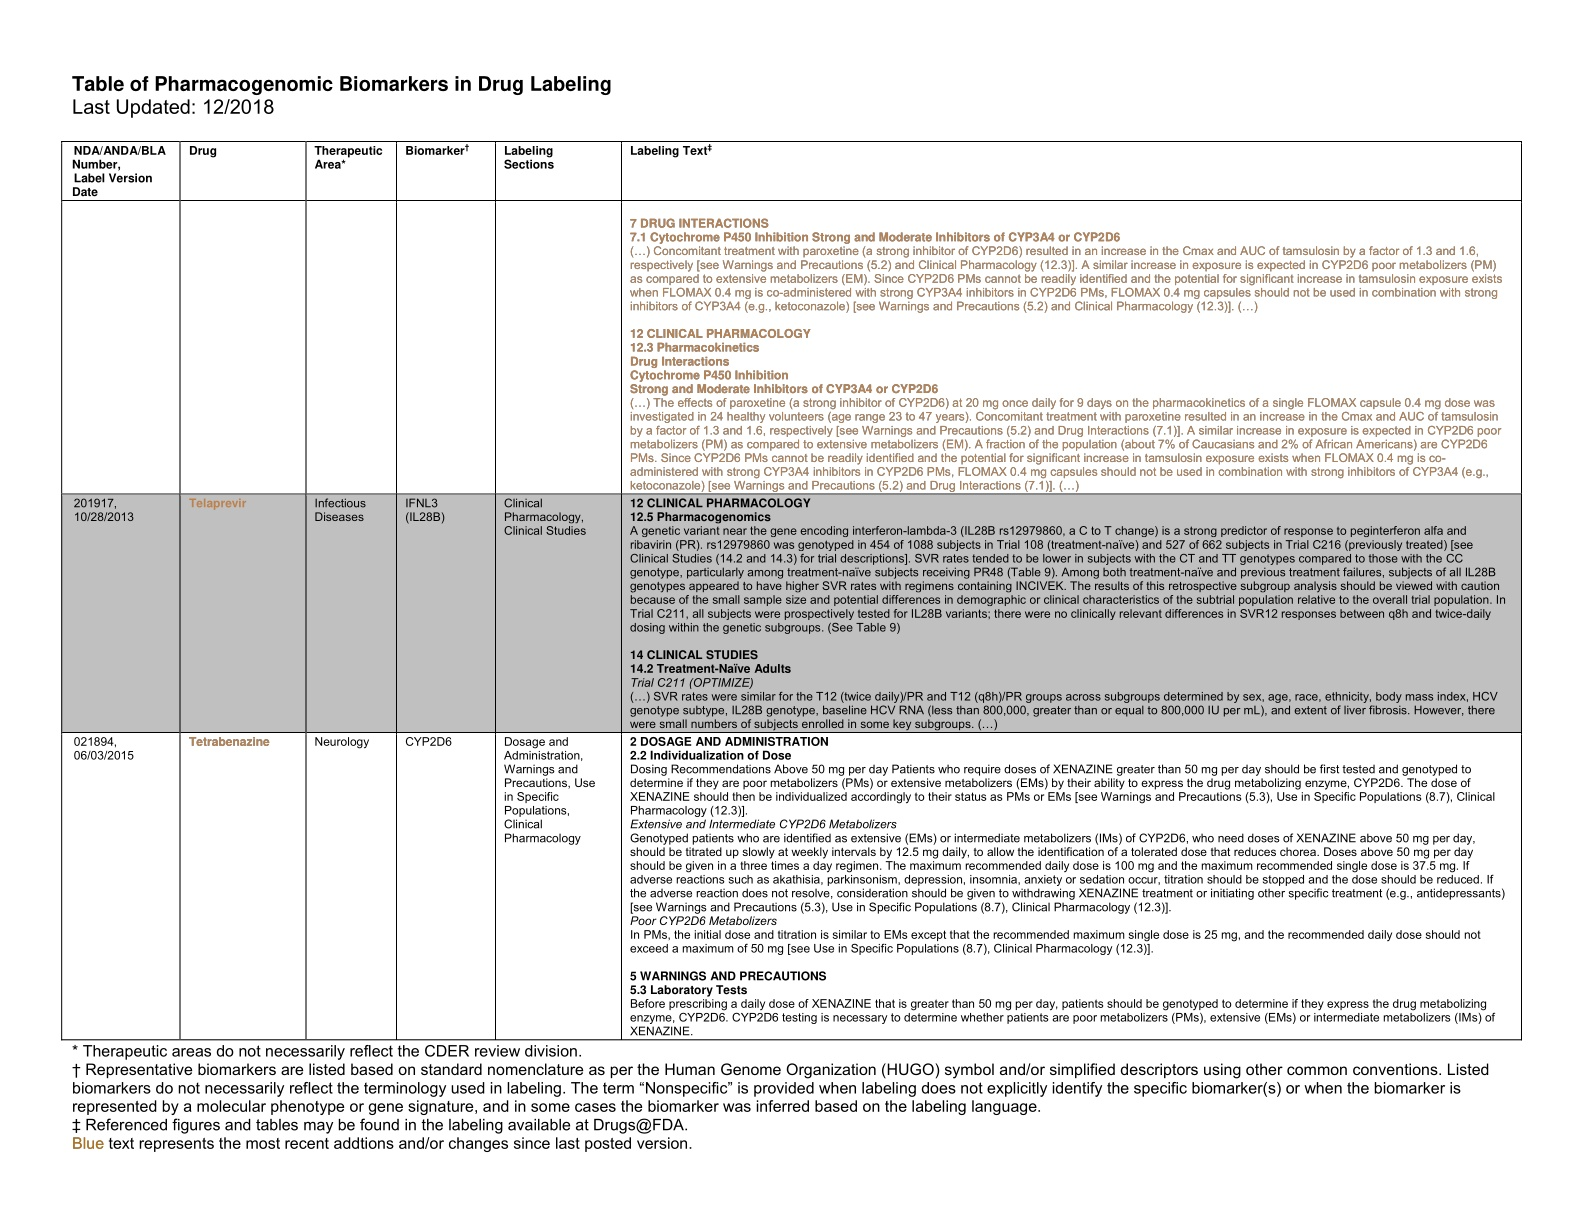full_lined: (59, 139, 1524, 1041)
